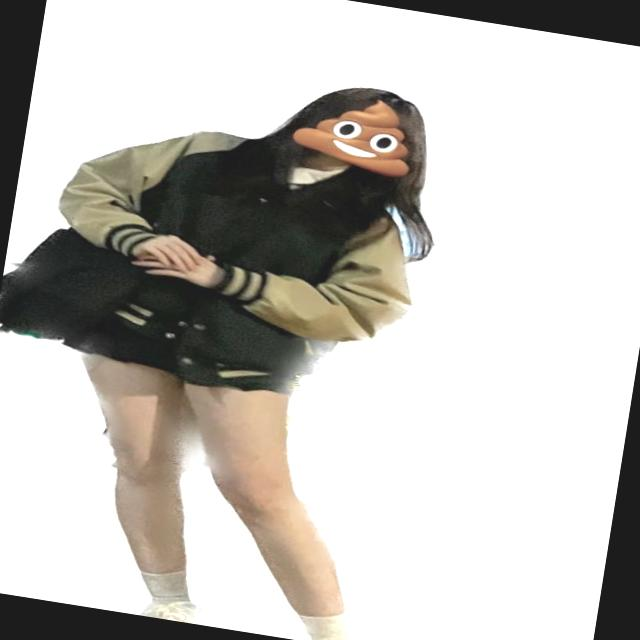jacket: (33, 99, 444, 408)
